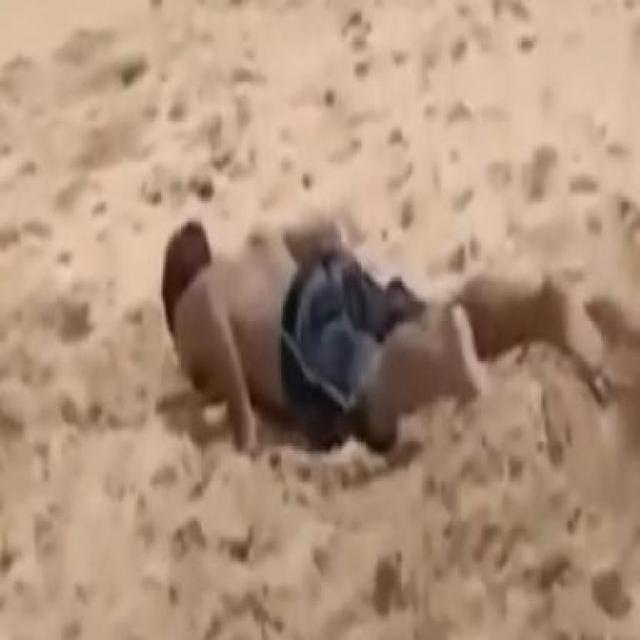fall: (162, 212, 606, 456)
